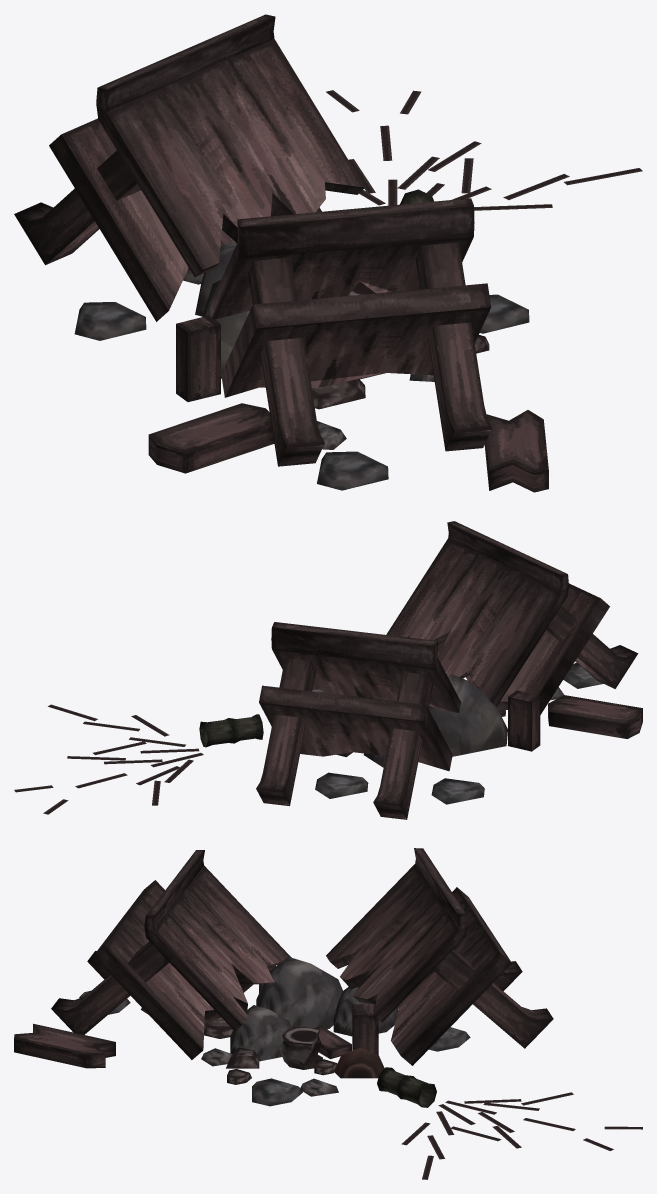
The model's file is PRP_TableA.FBX.
The picture shows the model from 3 angles, top to bottom: view 1: azimuth 30°, elevation 25°; view 2: azimuth 150°, elevation 25°; view 3: azimuth 270°, elevation 25°; orthographic projection. The views are drawn at different scales.
Visible parts, largest first — view 1: PRP_TableA; view 2: PRP_TableA; view 3: PRP_TableA.
Boxes of the visible parts, x1,y1,x2,y2 form: PRP_TableA: [14, 14, 642, 492]; PRP_TableA: [14, 521, 642, 819]; PRP_TableA: [14, 848, 642, 1179].
Bounding box in the file's own units: 297 × 97.09 × 356.
